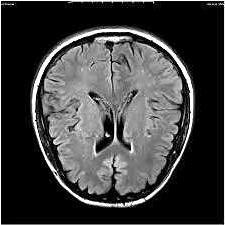Normal_Brain: (19, 11, 215, 225)
